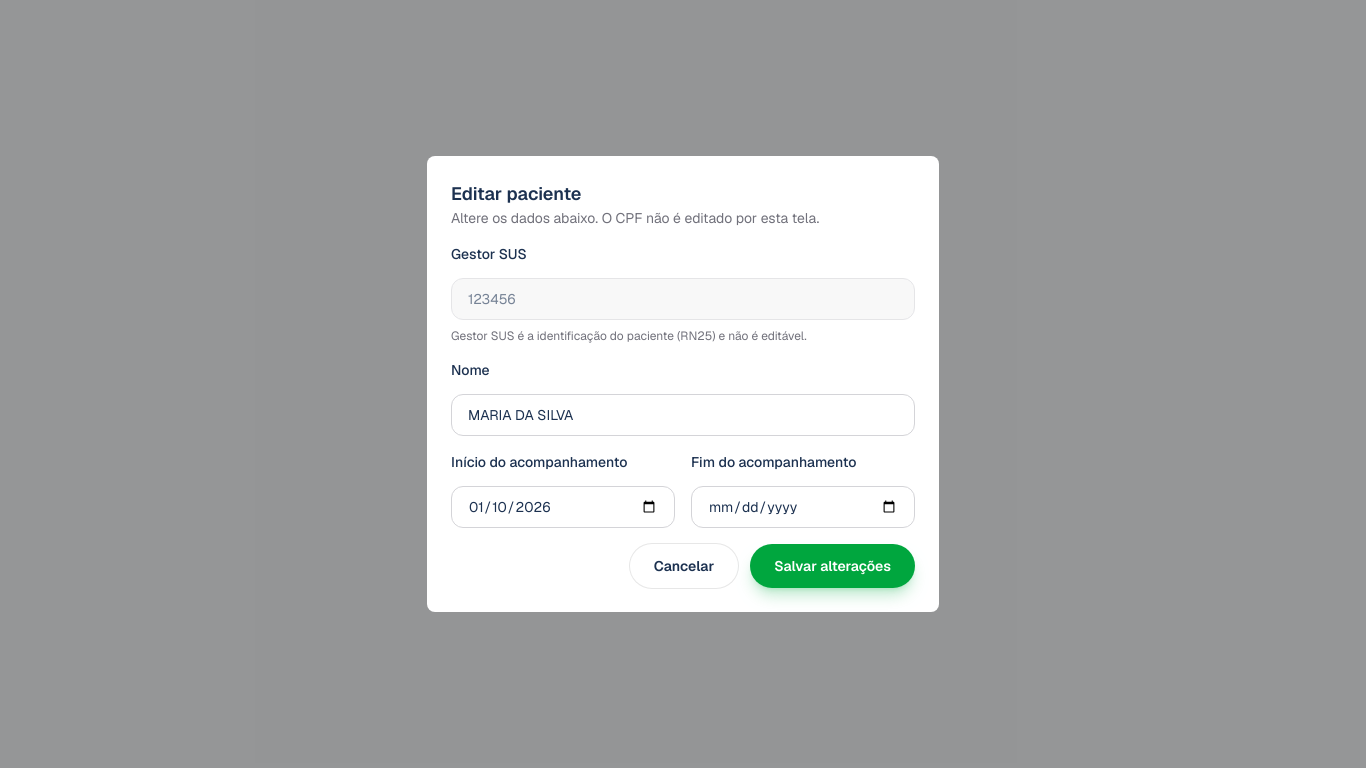
Test case: PacienteForm — editar › pré-preenche os dados e envia apenas campos editáveis (sem cpf/status)
Replace the text in the field labelled "Nome" with "Maria Silva Atualizada" at (683, 415), box [451,394,915,436]
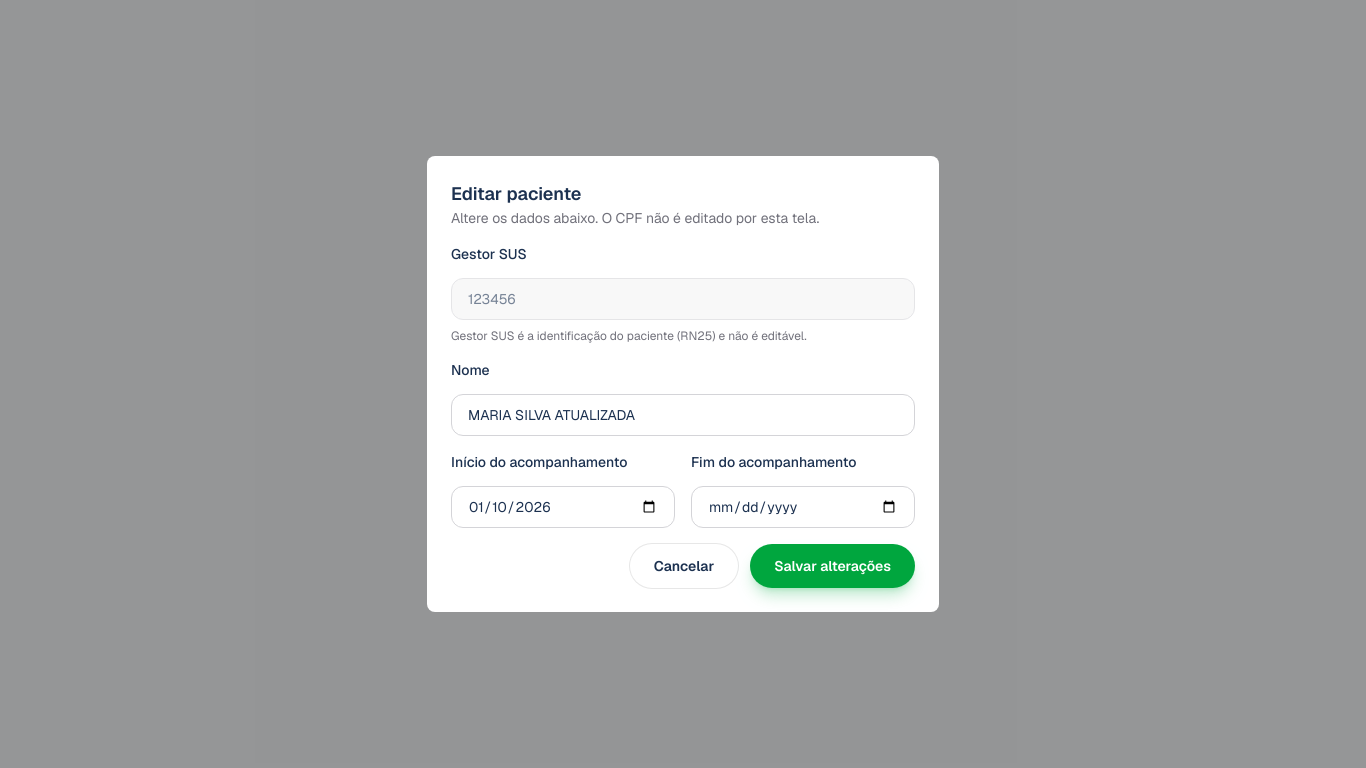
Click the button "Salvar alterações" at (833, 566), box [750,544,915,588]
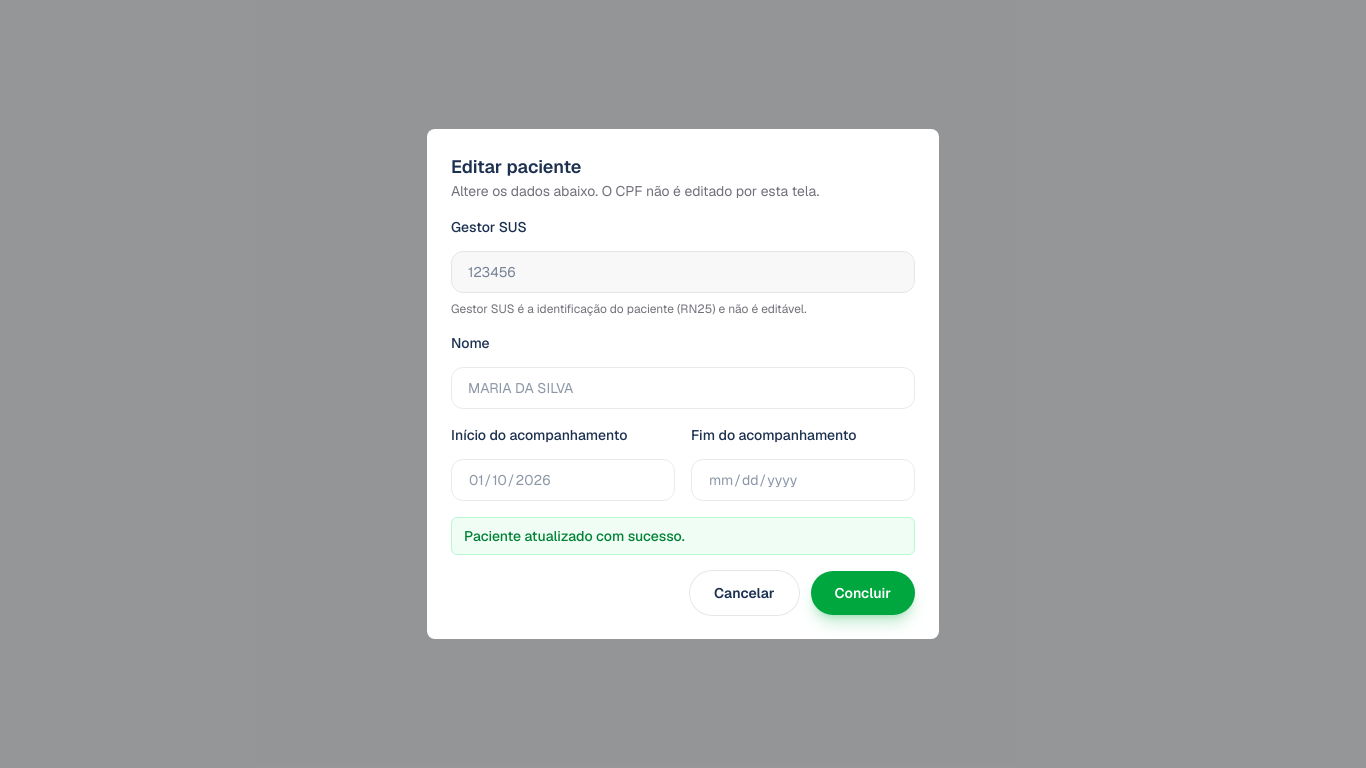
Expected: the text "Paciente atualizado com sucesso." is shown, [451,517,915,555]
